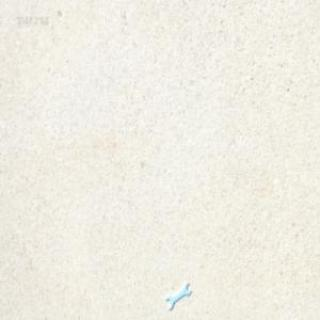Wrenchtrack_idkeyframe: (166, 278, 192, 308)
